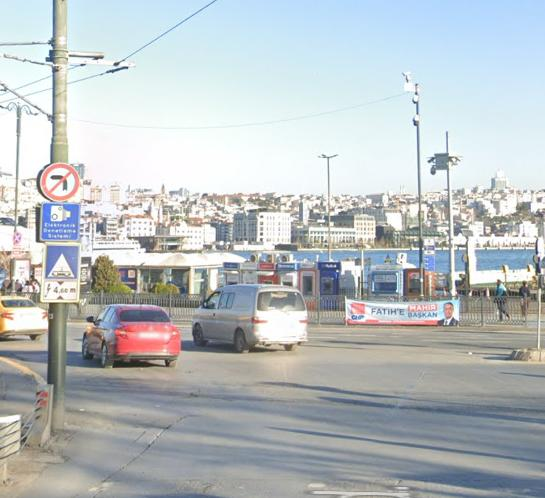leftturnsareforbidden: (41, 161, 74, 196)
